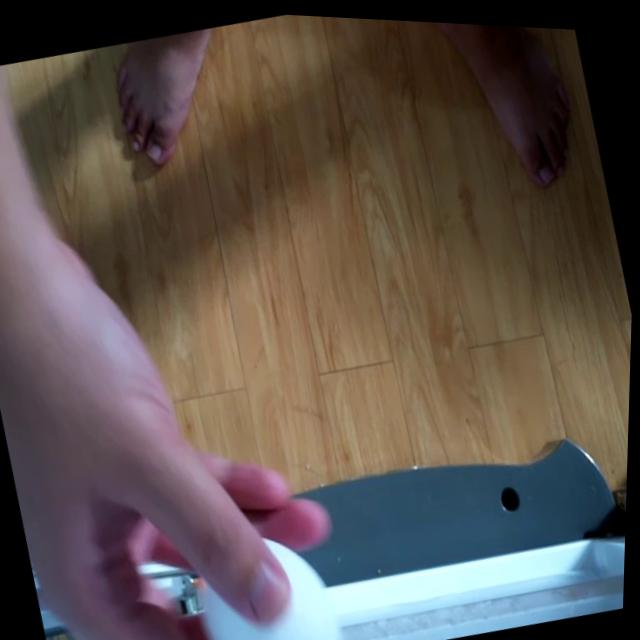egg: (187, 513, 348, 640)
